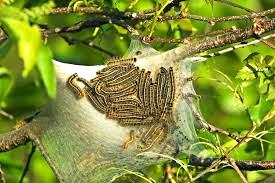Caterpillar: (169, 61, 177, 130), (104, 53, 138, 66), (120, 129, 138, 151), (147, 79, 157, 116), (66, 73, 81, 97), (102, 84, 136, 93), (120, 117, 154, 126), (111, 101, 133, 109), (139, 68, 144, 102)
Lobster Moth: (142, 128, 164, 154), (105, 67, 140, 82), (84, 92, 106, 113), (90, 68, 119, 83), (107, 87, 136, 98), (142, 69, 150, 108), (107, 112, 146, 120), (117, 97, 143, 107), (78, 76, 93, 88)
